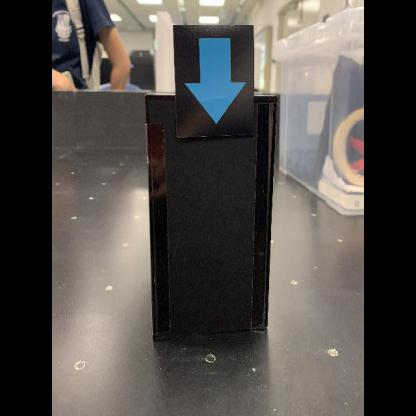down: (172, 22, 258, 141)
